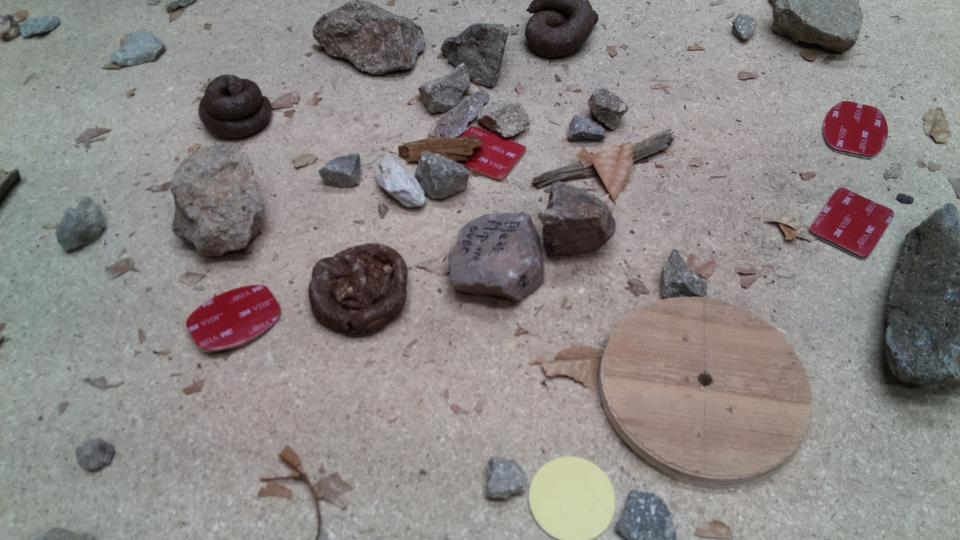poop: (307, 242, 410, 340), (197, 73, 274, 142), (520, 1, 599, 61)
